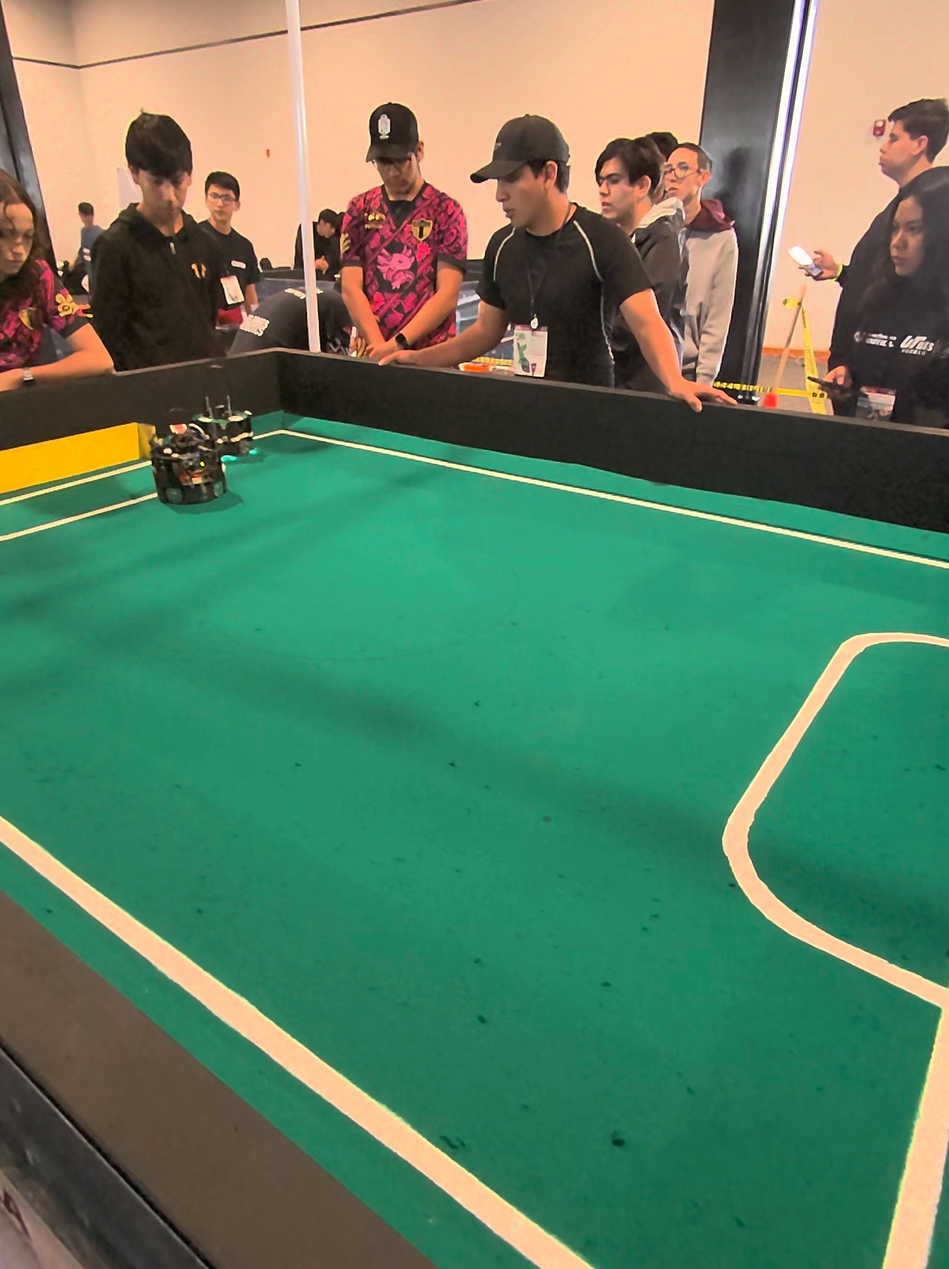Robot: (153, 398, 233, 515)
